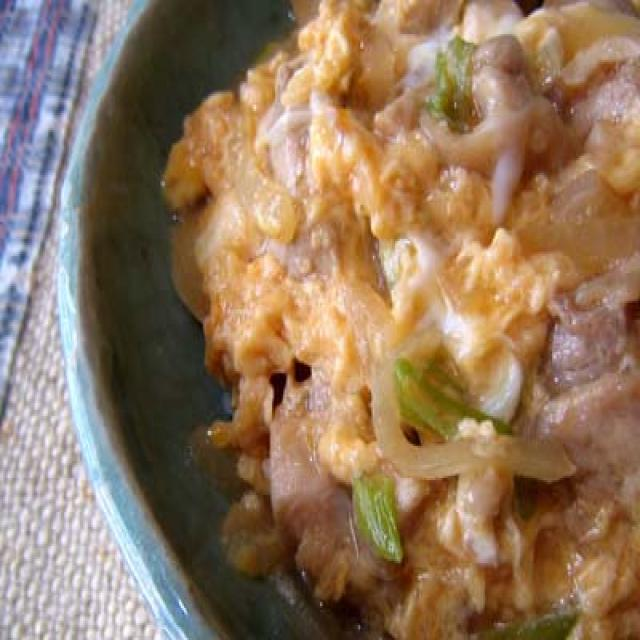米饭主食: (49, 0, 640, 640)
